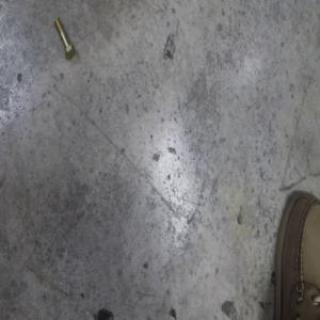Bolttrack_idkeyframe: (52, 16, 74, 61)
